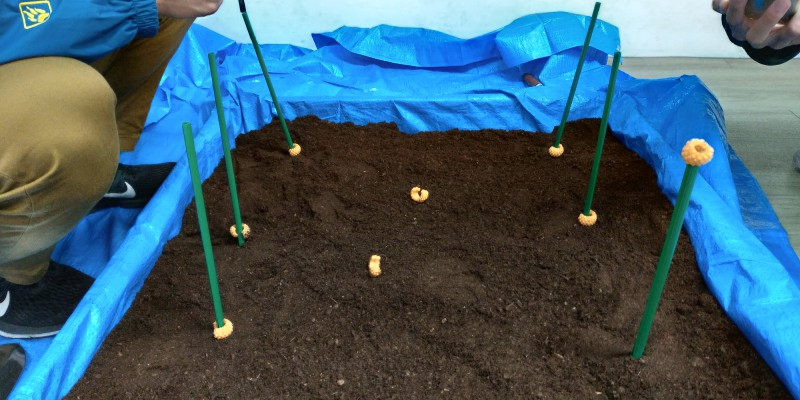eggs: (677, 134, 718, 169), (209, 315, 235, 342), (227, 217, 253, 242), (575, 202, 599, 228), (368, 252, 384, 280), (409, 184, 430, 203), (547, 139, 565, 158), (286, 142, 301, 158)
